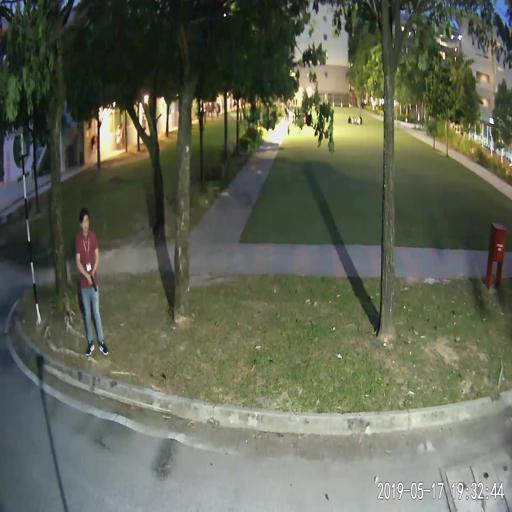Handgun: (86, 272, 95, 291)
